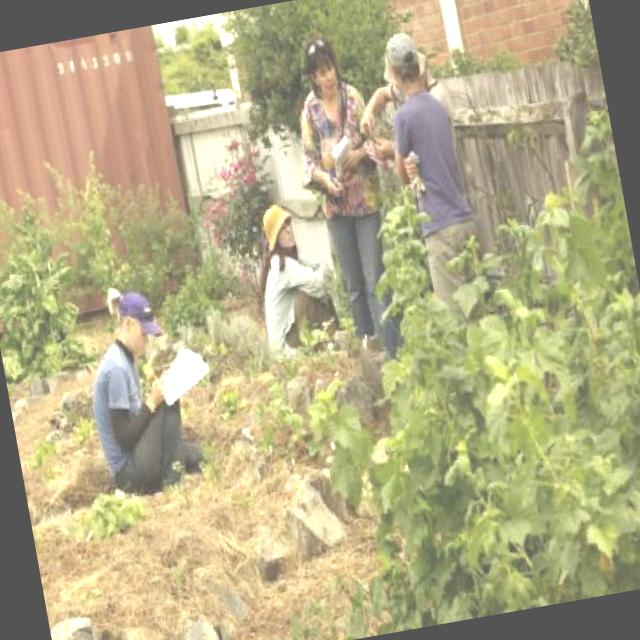Person: (275, 24, 414, 370), (371, 24, 496, 343), (70, 267, 201, 518), (238, 192, 354, 367), (344, 39, 464, 174)
